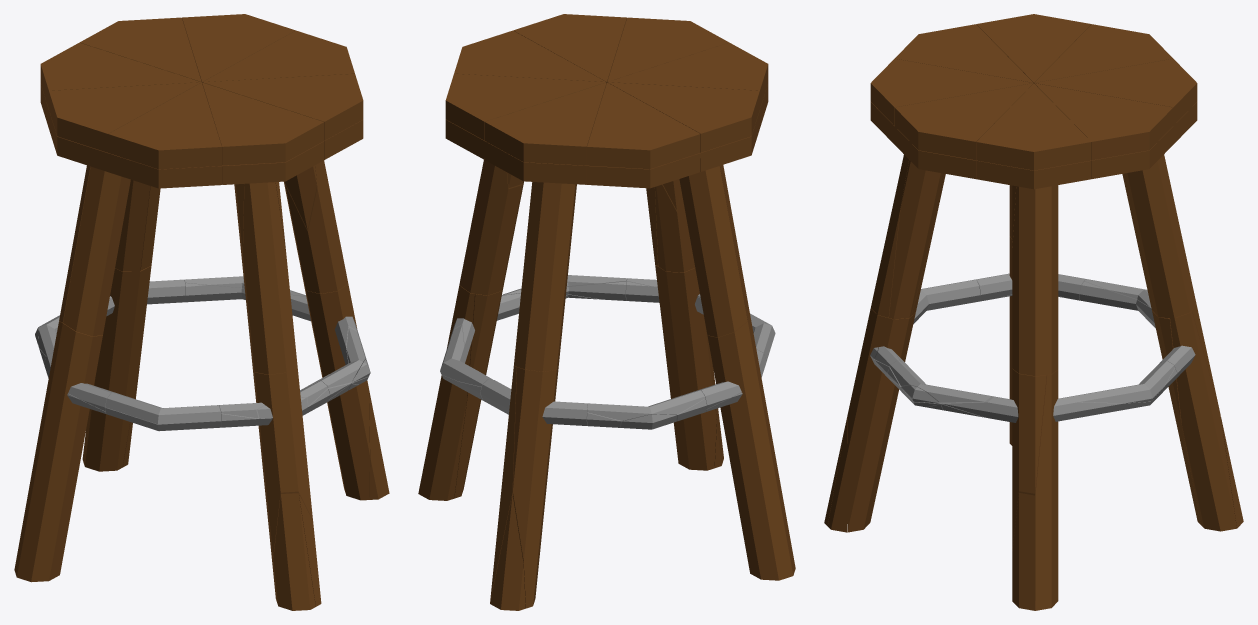
Rendered from LowPolyStoolShattered.glb.
3 views of the same model, side by side, from view 1: azimuth 30°, elevation 25°; view 2: azimuth 150°, elevation 25°; view 3: azimuth 270°, elevation 25° (orthographic). The views are drawn at different scales.
Parts seen in each view (by area): view 1: Cylinder.005_cell.014, Cylinder.005_cell.013, Cylinder.005_cell.006, Cylinder.005_cell.004, Stool2_cell.011, Cylinder.005_cell.015, Stool2_cell.009, Cylinder.005_cell.008, Stool2_cell.013, Stool2_cell.007, Stool2_cell.015, Cylinder.005_cell.016 (+26 smaller); view 2: Cylinder.005_cell.014, Cylinder.005_cell.008, Cylinder.005_cell.019, Cylinder.005_cell.006, Stool2_cell.015, Cylinder.005_cell.023, Stool2_cell.001, Stool2_cell.013, Cylinder.005_cell.016, Stool2_cell.003, Cylinder.005_cell.005, Stool2_cell.011 (+25 smaller); view 3: Cylinder.005_cell.016, Cylinder.005_cell.008, Cylinder.005_cell.001, Cylinder.005_cell.002, Stool2_cell.005, Stool2_cell.007, Stool2_cell.003, Cylinder.005_cell.010, Cylinder.005_cell.005, Stool2_cell.009, Stool2_cell.001, Stool2_cell.015 (+20 smaller).
Part boxes in pixels (x1,y1,x2,y2): Cylinder.005_cell.014: [14, 321, 102, 582]; Cylinder.005_cell.013: [243, 182, 297, 374]; Cylinder.005_cell.006: [83, 265, 151, 471]; Cylinder.005_cell.004: [63, 166, 130, 336]; Stool2_cell.011: [108, 82, 221, 169]; Cylinder.005_cell.015: [304, 284, 369, 500]; Stool2_cell.009: [202, 82, 324, 165]; Cylinder.005_cell.008: [252, 367, 312, 601]; Stool2_cell.013: [49, 82, 201, 152]; Stool2_cell.007: [202, 73, 363, 140]; Stool2_cell.015: [40, 42, 201, 108]; Cylinder.005_cell.016: [284, 160, 348, 293]; Cylinder.005_cell.014: [707, 318, 795, 580]; Cylinder.005_cell.008: [655, 264, 716, 470]; Cylinder.005_cell.019: [679, 166, 747, 337]; Cylinder.005_cell.006: [513, 365, 558, 608]; Stool2_cell.015: [587, 82, 700, 169]; Cylinder.005_cell.023: [525, 182, 576, 371]; Stool2_cell.001: [484, 82, 606, 165]; Stool2_cell.013: [607, 82, 759, 152]; Cylinder.005_cell.016: [459, 160, 522, 295]; Stool2_cell.003: [445, 73, 605, 140]; Cylinder.005_cell.005: [418, 285, 474, 500]; Stool2_cell.011: [607, 42, 768, 108]; Cylinder.005_cell.016: [1012, 185, 1058, 376]; Cylinder.005_cell.008: [847, 308, 915, 532]; Cylinder.005_cell.001: [1170, 311, 1236, 531]; Cylinder.005_cell.002: [1124, 154, 1196, 318]; Stool2_cell.005: [976, 83, 1091, 170]; Stool2_cell.007: [894, 83, 1033, 160]; Stool2_cell.003: [1034, 83, 1173, 160]; Cylinder.005_cell.010: [889, 160, 942, 319]; Cylinder.005_cell.005: [1035, 370, 1058, 610]; Stool2_cell.009: [870, 58, 1033, 125]; Stool2_cell.001: [1034, 58, 1197, 125]; Stool2_cell.015: [1034, 24, 1172, 82].
Bounding box in the file's own units: 257 × 297 × 257.
